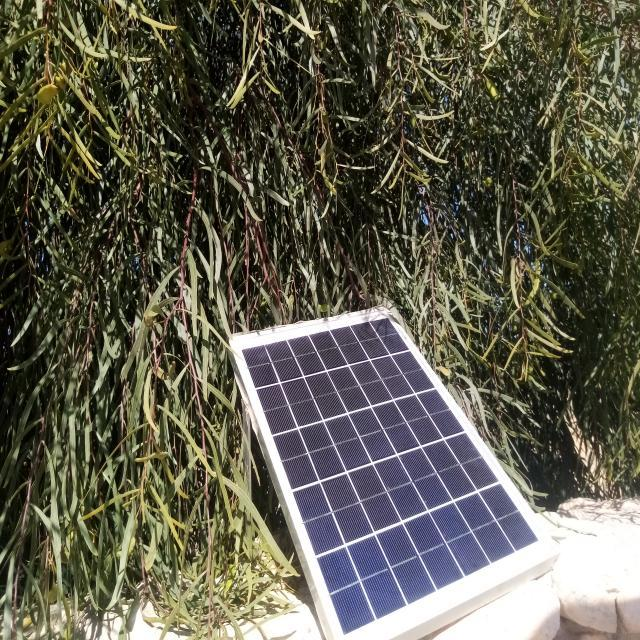no faulty: (232, 309, 556, 640)
